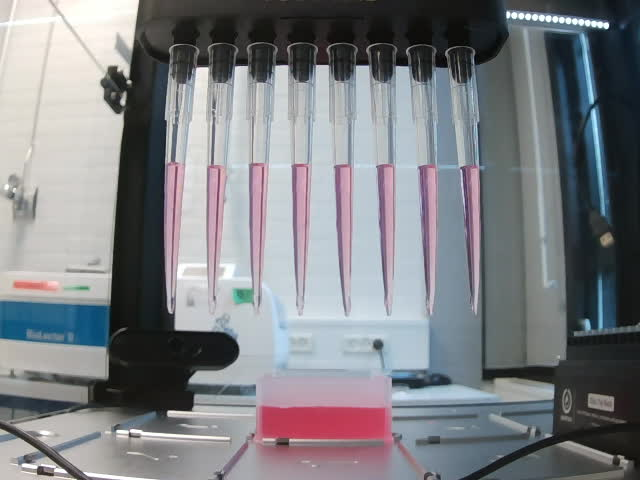pipet: (446, 46, 485, 315), (405, 43, 440, 318), (165, 44, 200, 317), (326, 43, 360, 318), (206, 42, 239, 316), (367, 42, 399, 319), (246, 42, 278, 314), (287, 43, 318, 317)
red liquid: (459, 164, 485, 317), (375, 163, 399, 317), (333, 163, 356, 318), (416, 164, 439, 317), (290, 162, 312, 317), (163, 162, 185, 315), (206, 165, 226, 315), (249, 163, 268, 314)
